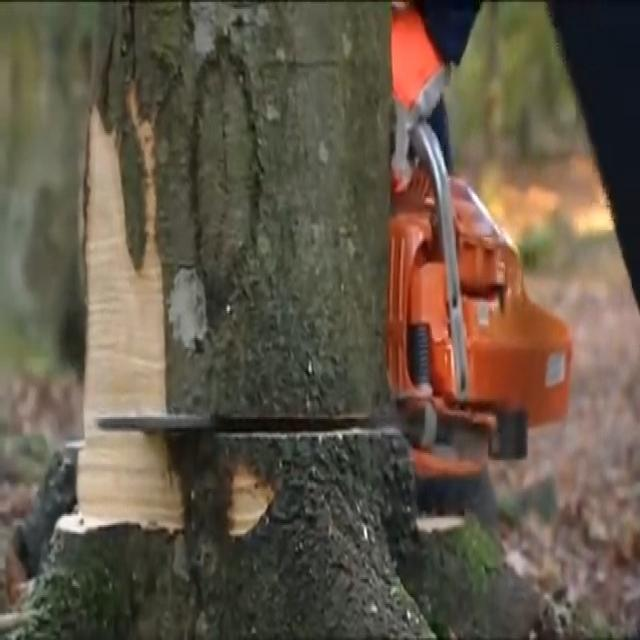Chainsaw: (86, 101, 588, 514)
